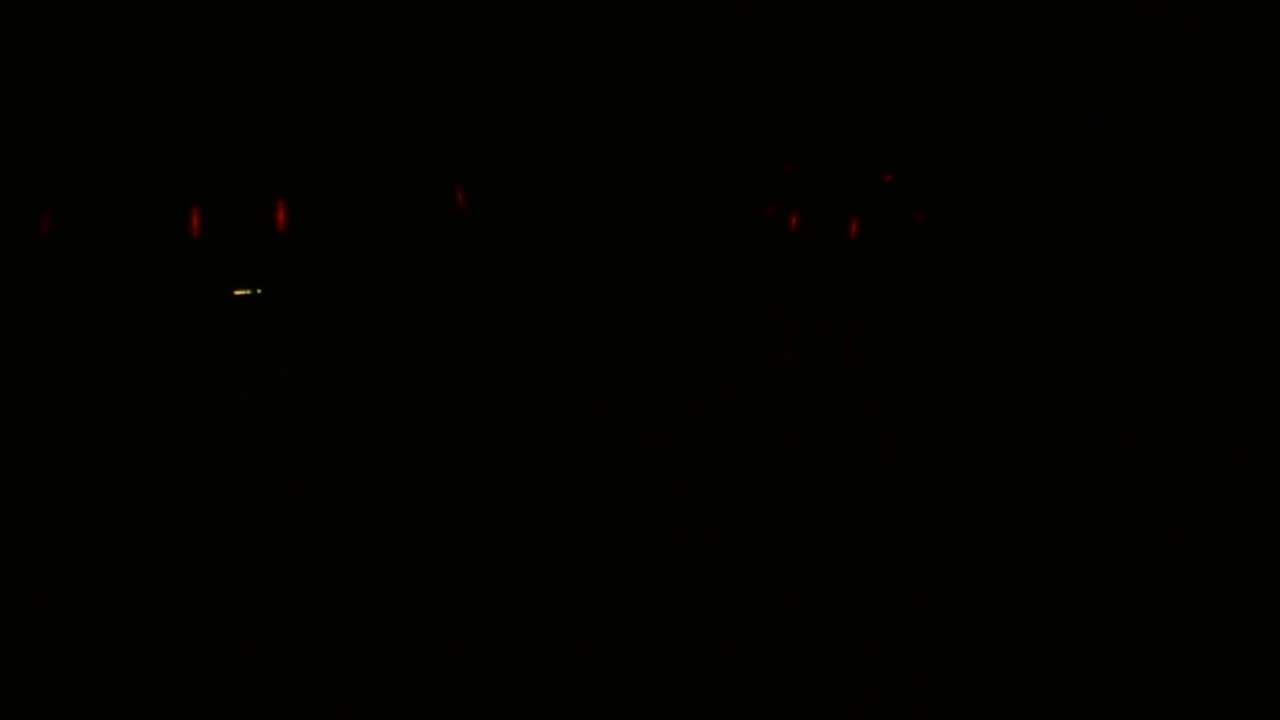pair1: (184, 191, 296, 243)
pair2: (783, 206, 864, 246)
